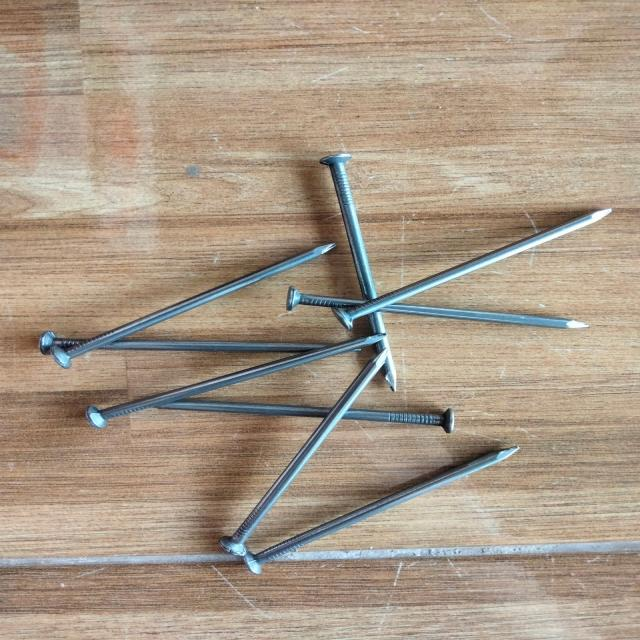3x10 nail: (186, 343, 552, 583), (268, 197, 620, 335)
